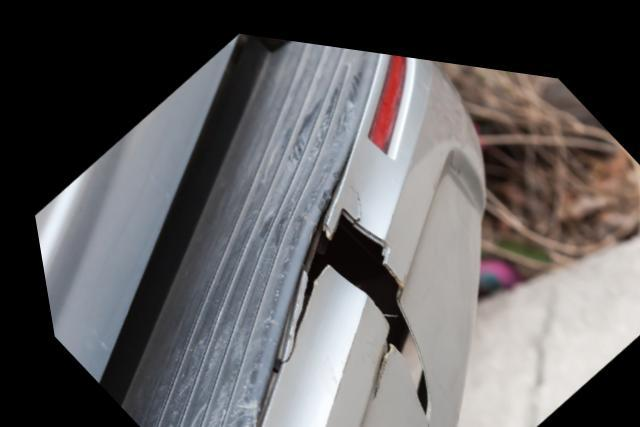crack: (271, 174, 415, 410)
